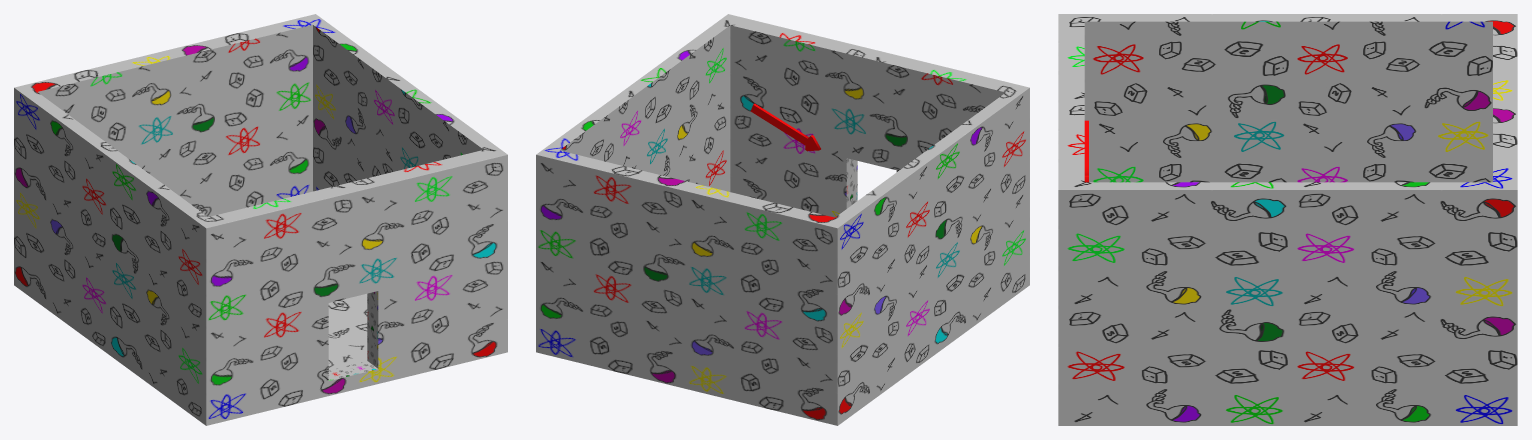
File: ReadySceneRoom.fbx
3 views of the same model, side by side, from view 1: azimuth 30°, elevation 25°; view 2: azimuth 150°, elevation 25°; view 3: azimuth 270°, elevation 25° (orthographic). The views are drawn at different scales.
Parts seen in each view (by area): view 1: ReadyRoom; view 2: ReadyRoom, Arrow2; view 3: ReadyRoom.
Part boxes in pixels (x1,y1,x2,y2): ReadyRoom: [14, 14, 507, 425]; ReadyRoom: [536, 14, 1029, 425]; Arrow2: [750, 103, 820, 151]; ReadyRoom: [1058, 14, 1517, 425].
Size of the model in its own units: 144 by 90.41 by 159.
